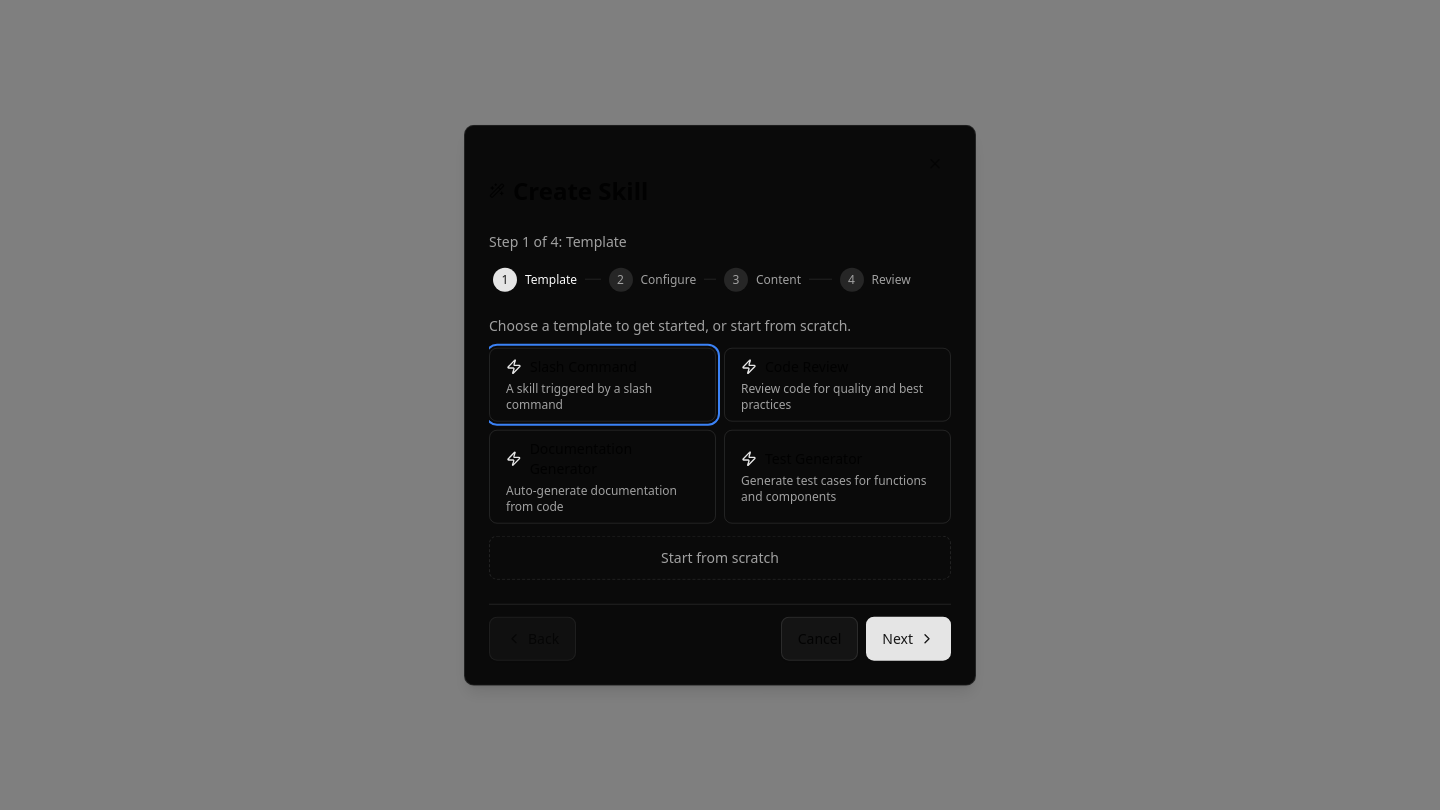
Test case: SkillCreationWizard › should go back with the back button
Go to step 2
Click the button "Start from scratch" at (720,557), box top-left (489, 535), bottom-right (951, 579)
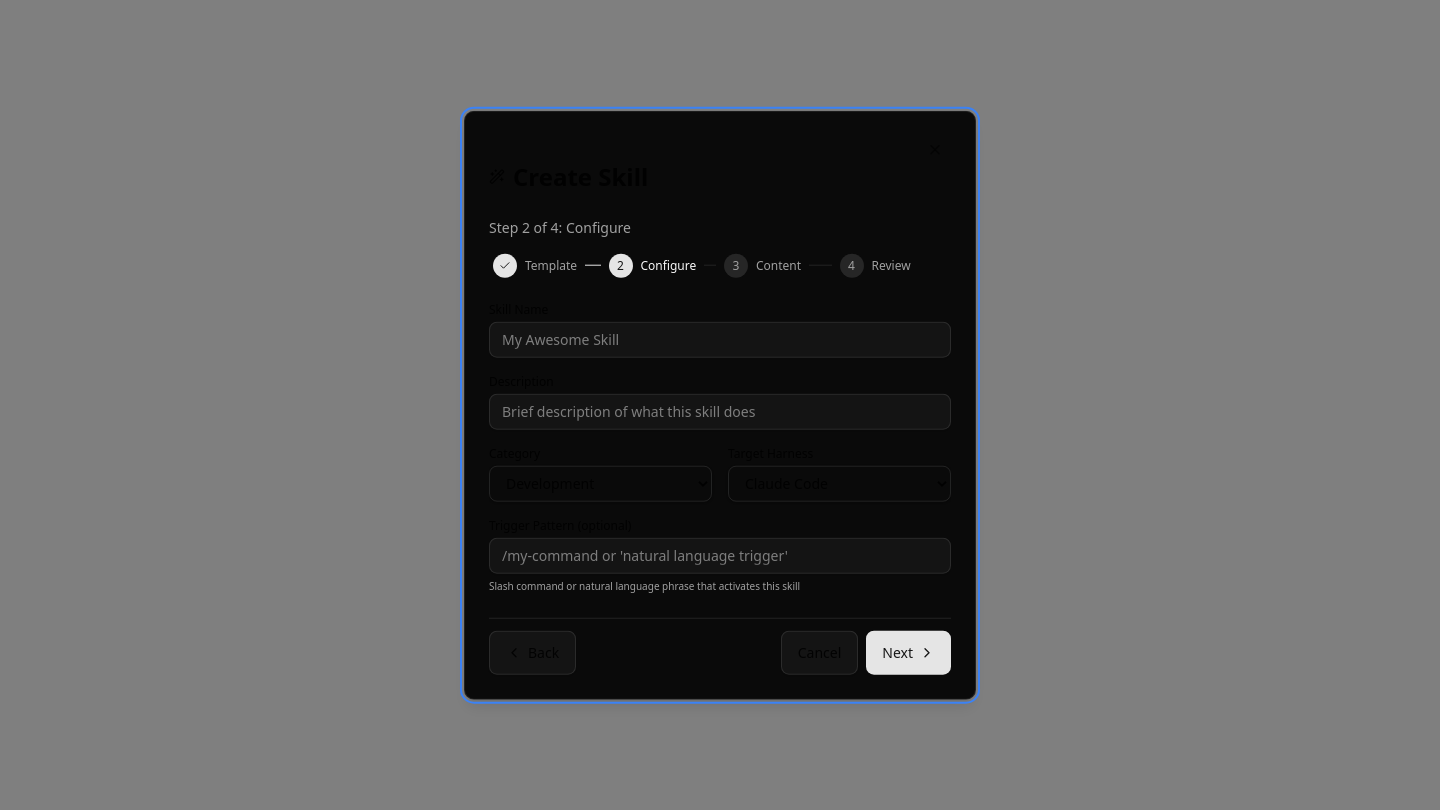
Expected: the field labelled "Skill Name" is shown, top-left (489, 321), bottom-right (951, 357)
Go back to step 1
Click the button "Back" at (533,652), box top-left (489, 630), bottom-right (576, 674)
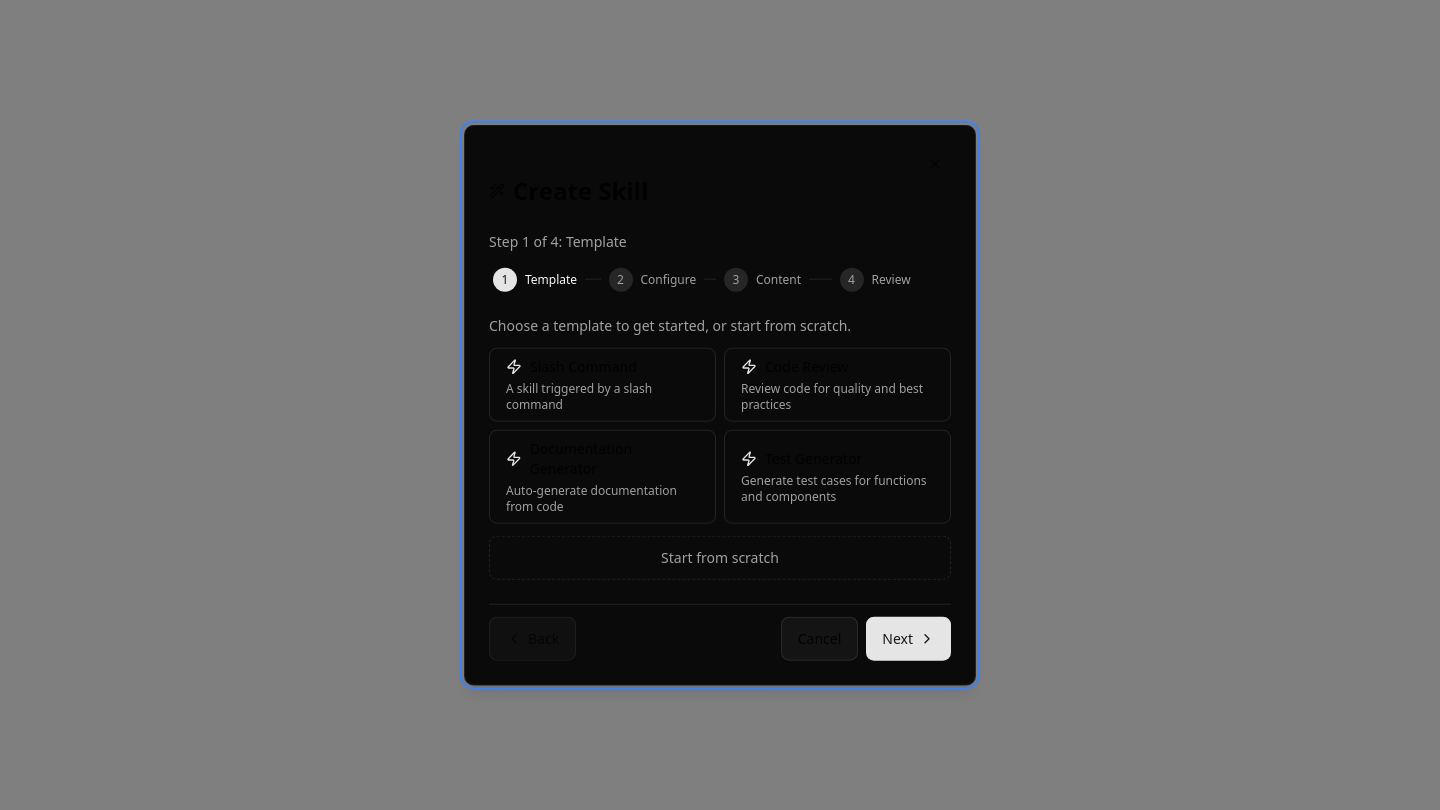
Expected: the button "Start from scratch" is shown, top-left (489, 535), bottom-right (951, 579)
